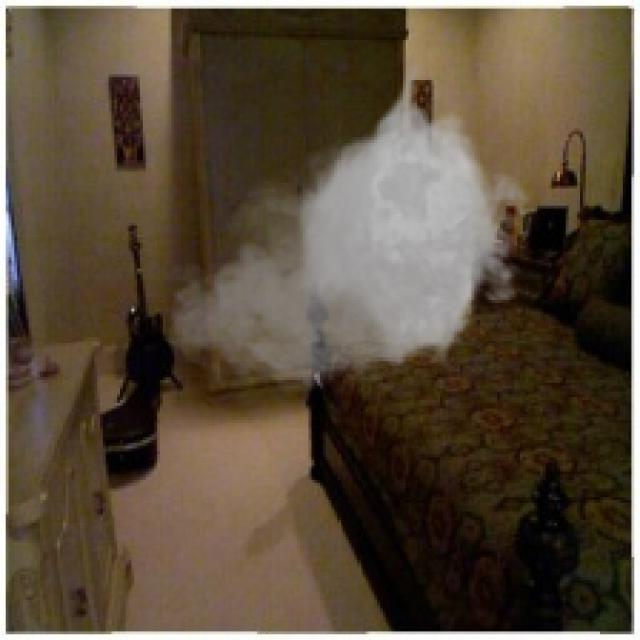Smoke: (163, 54, 543, 403)
